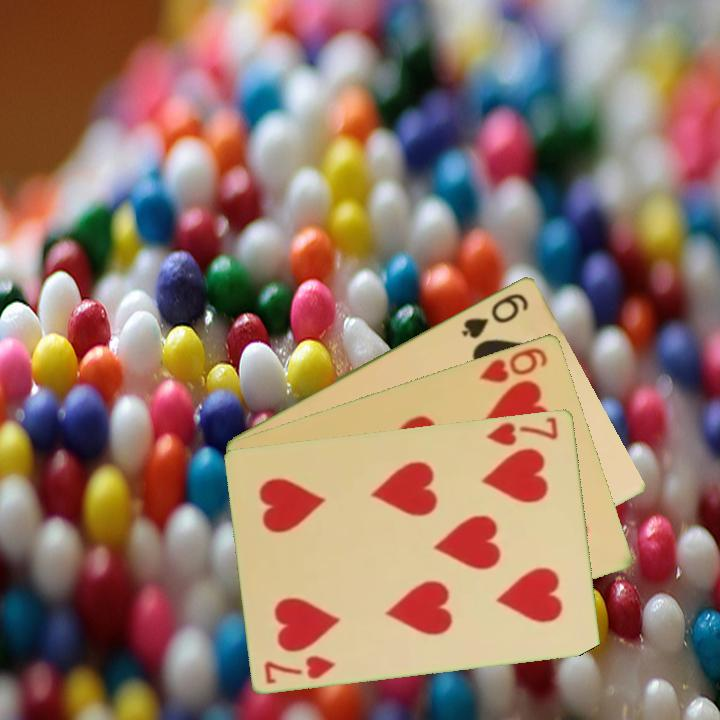6h: (476, 343, 551, 386)
6s: (458, 289, 532, 341)
7h: (261, 651, 339, 687), (483, 413, 561, 448)
